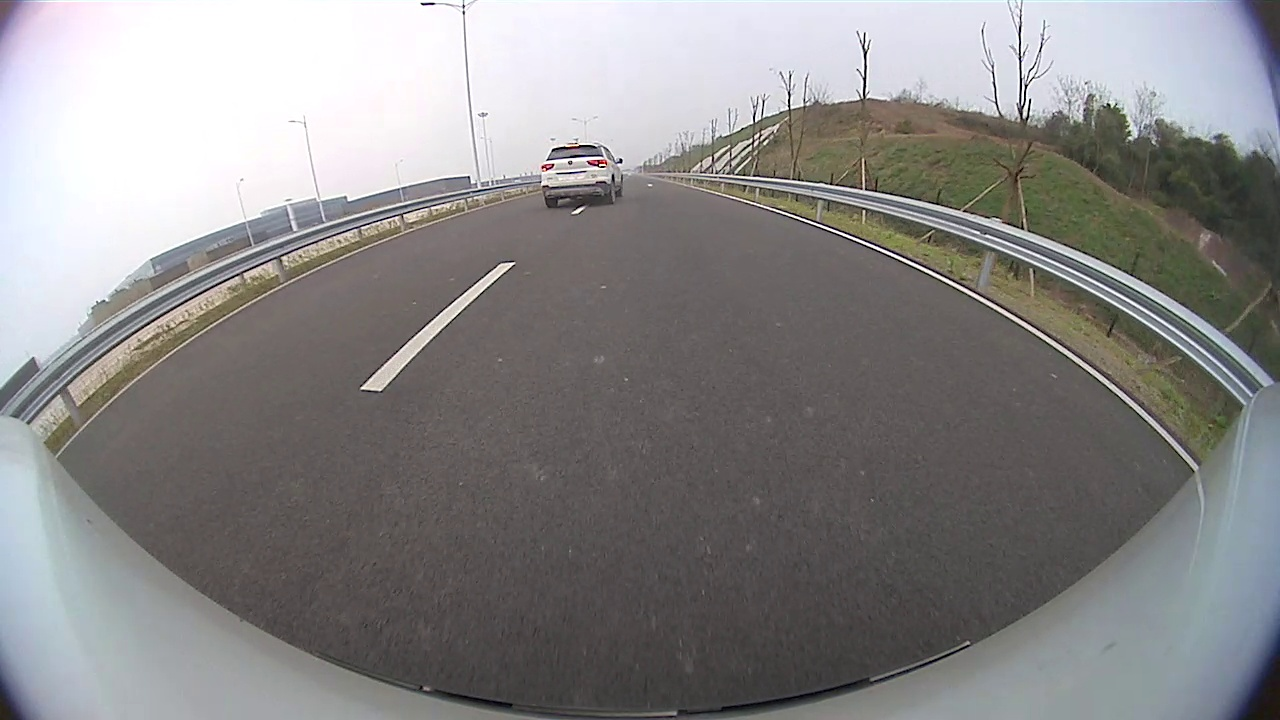car: (538, 140, 621, 210)
